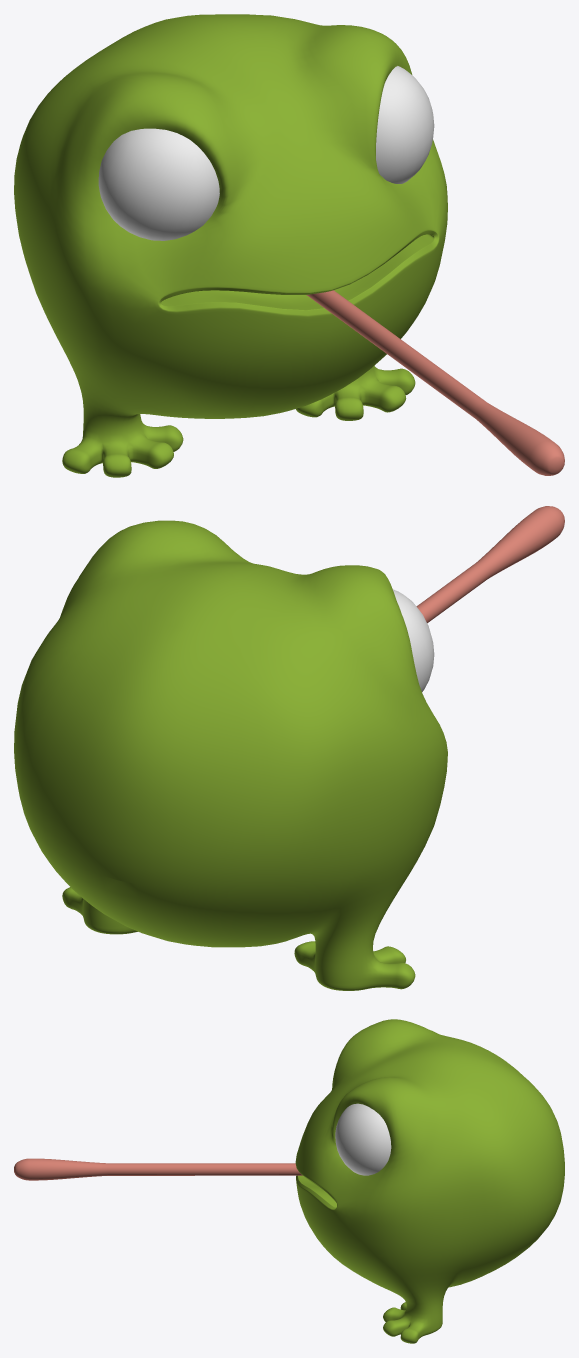
Rendered from Frog.fbx.
3 renders of one model, top to bottom at view 1: azimuth 30°, elevation 25°; view 2: azimuth 150°, elevation 25°; view 3: azimuth 270°, elevation 25°, orthographic. The views are drawn at different scales.
Visible parts, largest first — view 1: corps, yeux, langue; view 2: corps, langue, yeux; view 3: corps, langue, yeux.
Part boxes in pixels (x1,y1,x2,y2): corps: [14, 14, 447, 477]; yeux: [98, 66, 434, 240]; langue: [306, 290, 564, 475]; corps: [14, 520, 447, 990]; langue: [416, 506, 564, 623]; yeux: [393, 589, 434, 691]; corps: [295, 1019, 564, 1343]; langue: [14, 1158, 302, 1180]; yeux: [335, 1103, 391, 1175].
Bounding box in the file's own units: 38.28 × 37.95 × 78.76.
